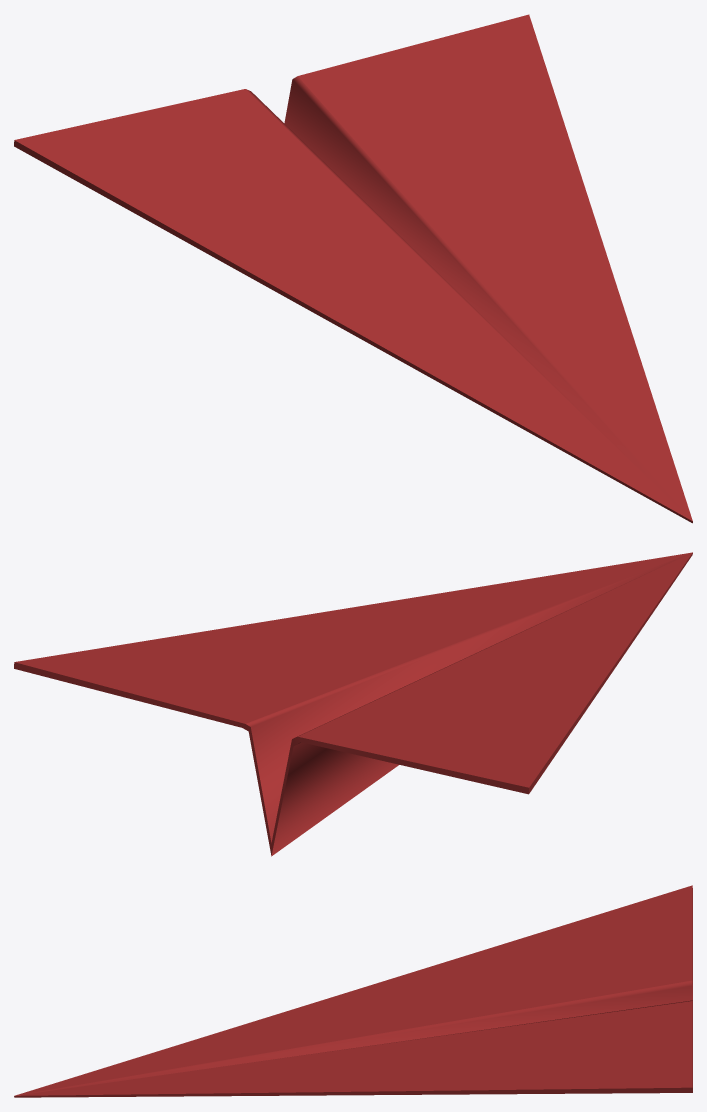
The picture shows the model from 3 angles, top to bottom: view 1: azimuth 30°, elevation 25°; view 2: azimuth 150°, elevation 25°; view 3: azimuth 270°, elevation 25°; orthographic projection. The views are drawn at different scales.
Parts seen in each view (by area): view 1: Plane1; view 2: Plane1; view 3: Plane1.
Boxes of the visible parts, x1,y1,x2,y2 form: Plane1: (14,14,692,523); Plane1: (14,552,692,856); Plane1: (14,885,692,1097).
Bounding box in the file's own units: 20.82 × 5.33 × 29.51.
